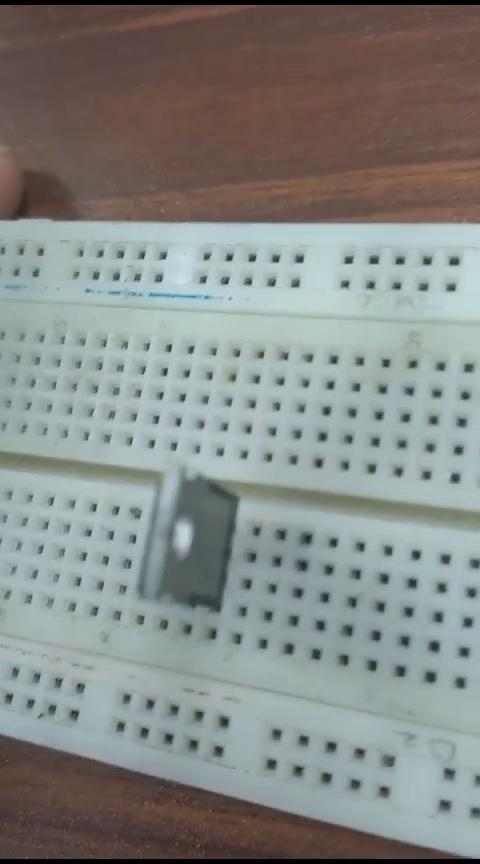voltage regulator: (117, 461, 262, 612)
